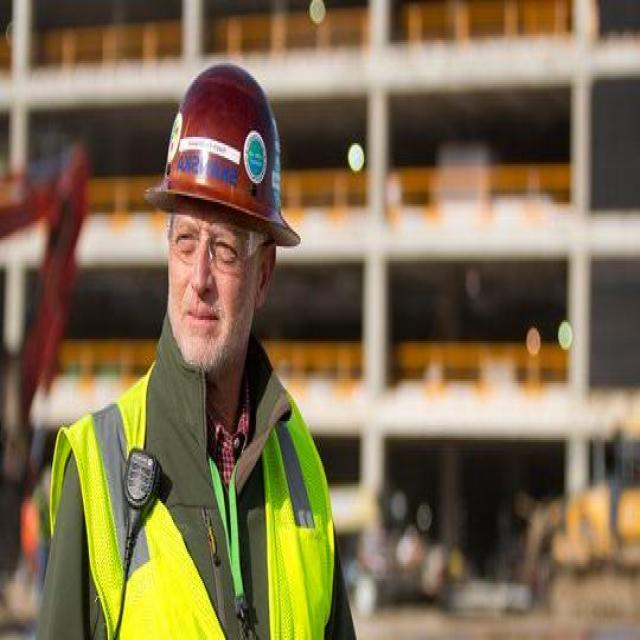Reflective-Jacket: (57, 366, 340, 640)
Safety-Helmet: (141, 54, 307, 252)
